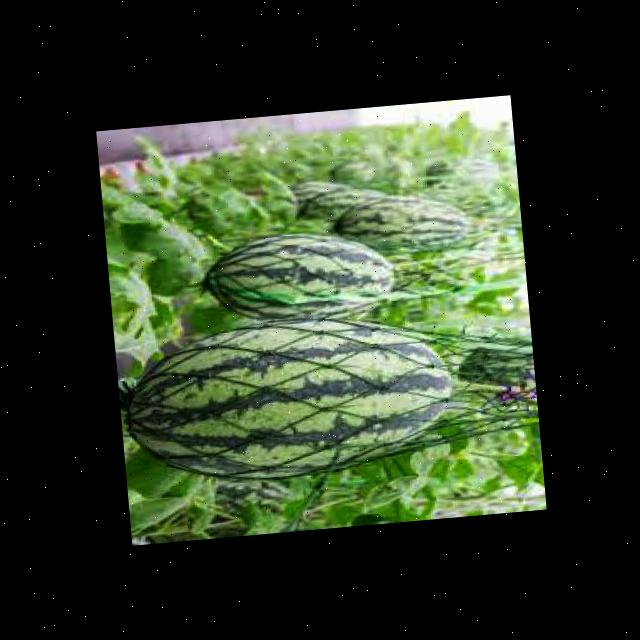watermelon: (119, 306, 458, 492), (203, 223, 398, 329), (330, 188, 470, 260), (288, 174, 387, 226), (327, 158, 376, 192), (382, 159, 418, 195), (421, 158, 460, 190)
